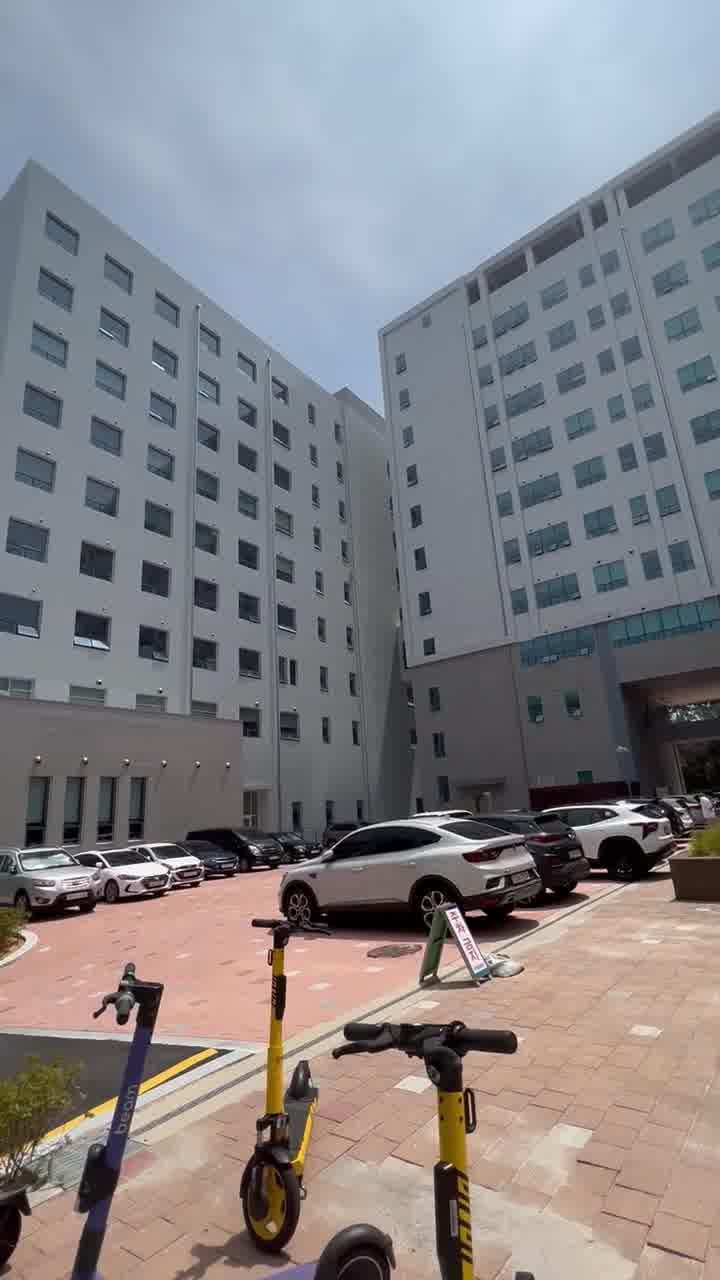building: (22, 188, 720, 798)
